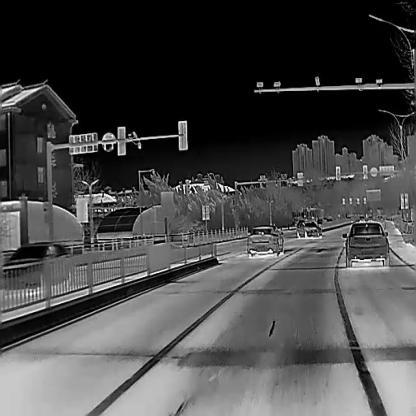car: (0, 240, 69, 289), (345, 222, 389, 267), (247, 224, 284, 257), (296, 219, 323, 238)
